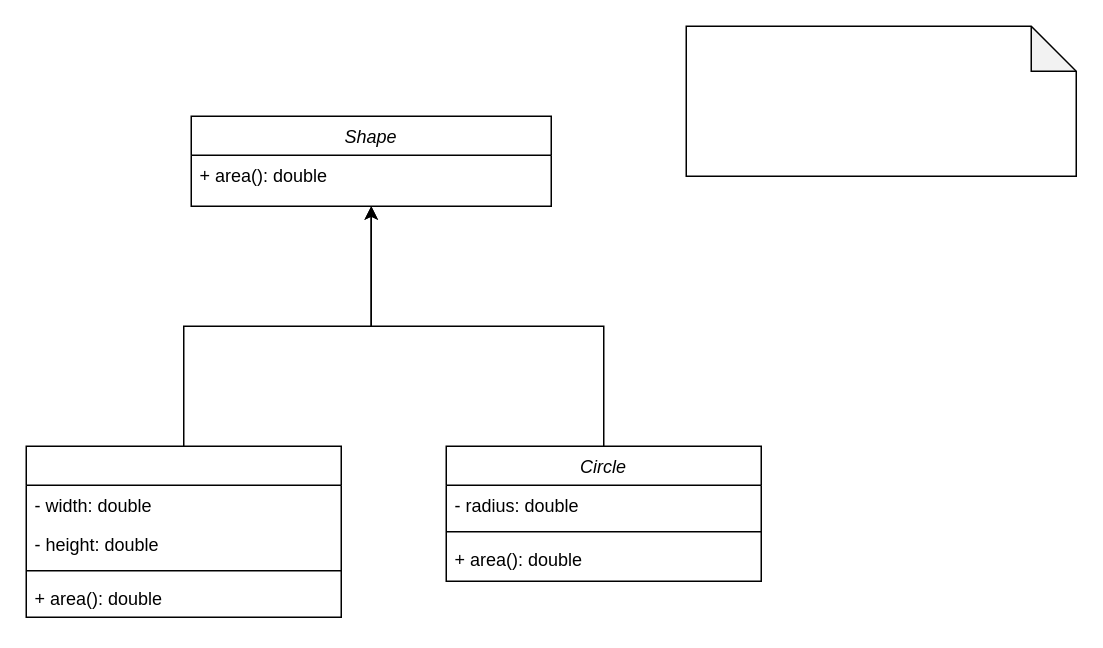
Image size: 1103x648. Some labels were removed from this diagram. The box of each missing label's shape, as (x1, y1, x2, y2) in pixels:
Note (-): private (+): public (#): protected: (685, 25, 1076, 176)
Rectangle: (25, 445, 341, 617)
